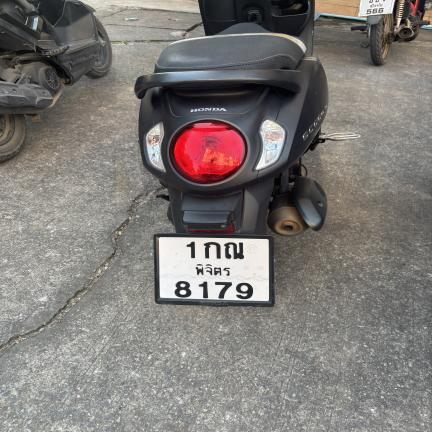1: (182, 241, 198, 259), (196, 281, 210, 299)
7: (213, 280, 232, 299)
8: (174, 280, 192, 298)
9: (234, 281, 253, 300)
A01: (203, 241, 222, 259)
A19: (223, 241, 245, 260)
PCT: (193, 262, 232, 277)
